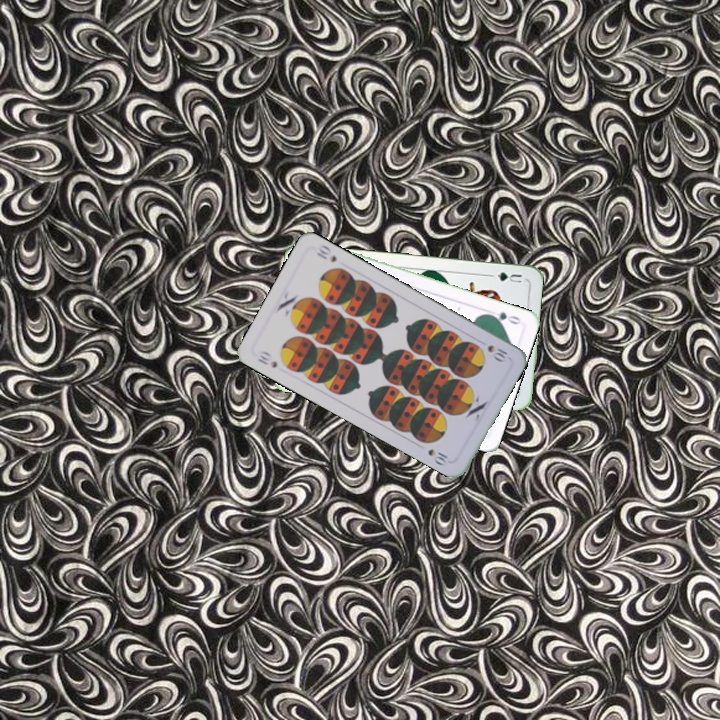GO: (483, 308, 523, 327)
GU: (493, 268, 525, 286)
S10: (483, 341, 510, 365), (254, 347, 280, 371)
